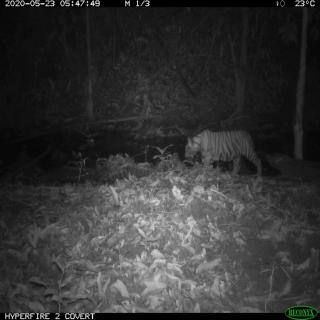Tiger: (182, 120, 273, 188)
